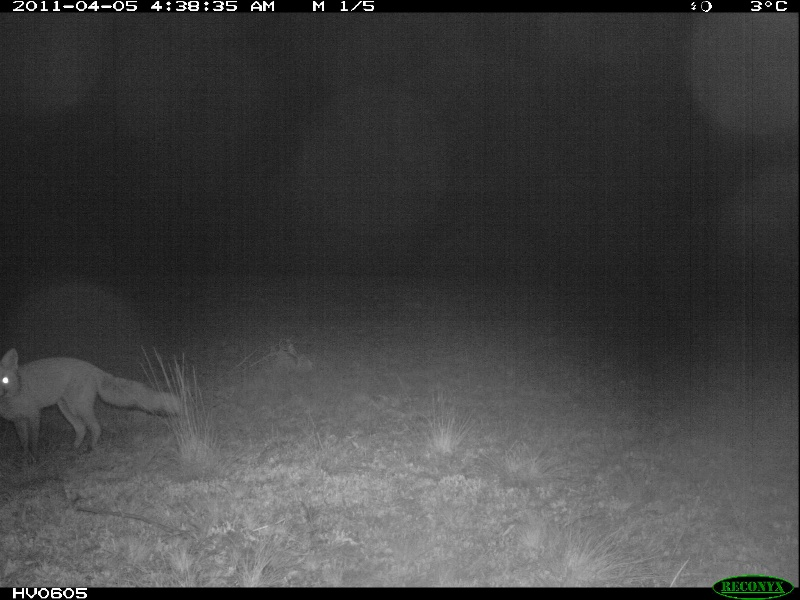fox: (1, 343, 189, 456)
